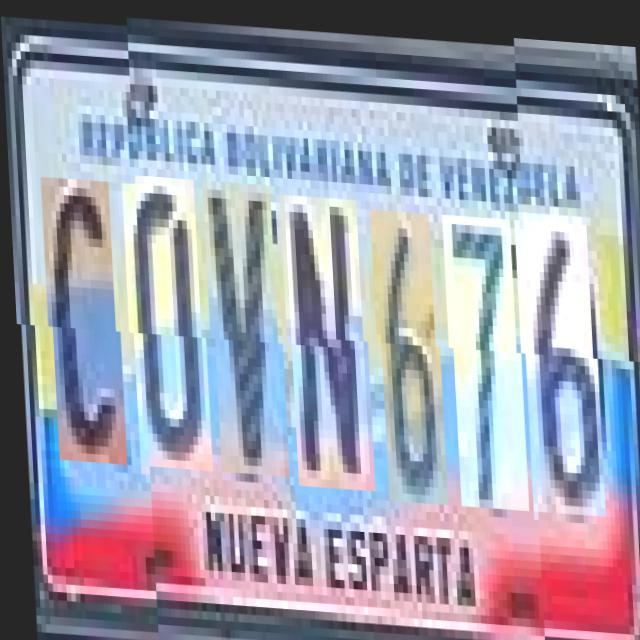0: (124, 173, 208, 468)
6: (517, 213, 601, 516), (373, 204, 443, 498)
7: (445, 208, 524, 504)
C: (43, 168, 122, 454)
N: (282, 190, 370, 486)
V: (205, 178, 284, 472)
